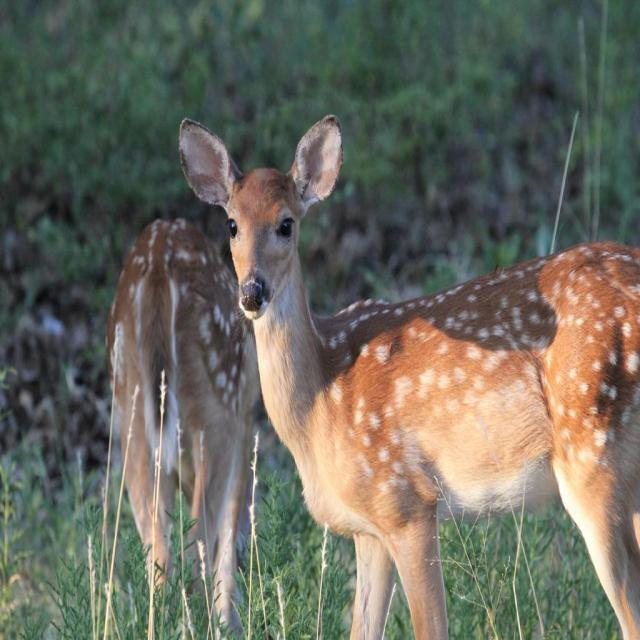Deer: (179, 113, 640, 639), (109, 211, 262, 640)
